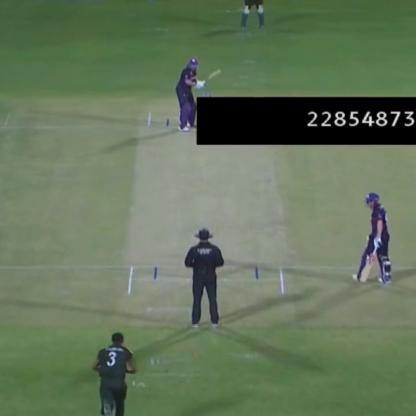pitch: (114, 115, 291, 302)
